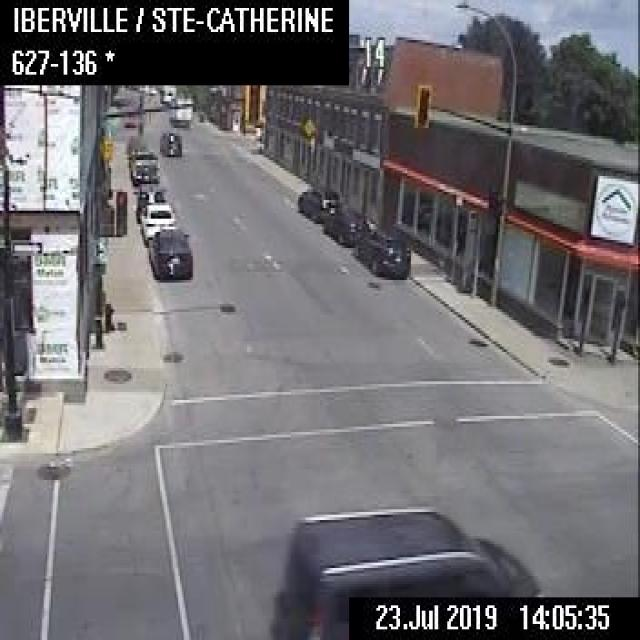vehicle: (269, 502, 540, 638), (354, 226, 409, 273), (147, 226, 191, 277), (296, 184, 340, 221), (322, 208, 367, 242), (139, 199, 174, 240), (134, 182, 165, 222), (129, 149, 158, 184), (168, 94, 192, 126), (158, 128, 181, 154), (127, 134, 146, 156)
